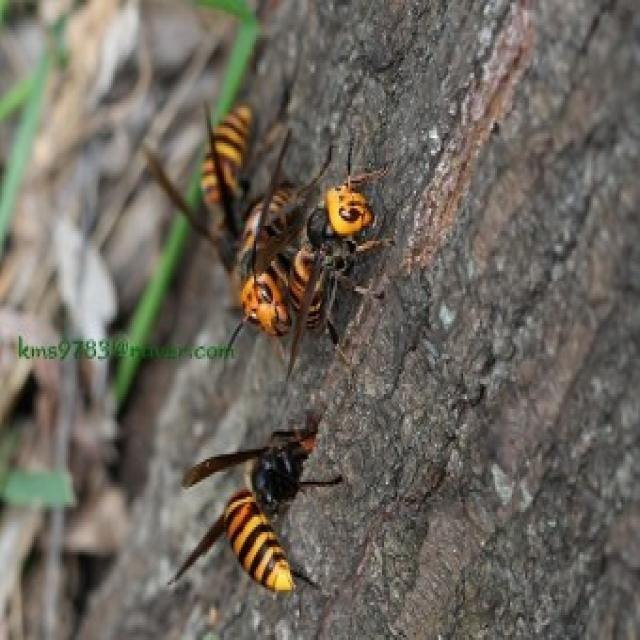Wasp: (168, 414, 342, 594), (302, 170, 379, 347), (233, 155, 297, 350)
